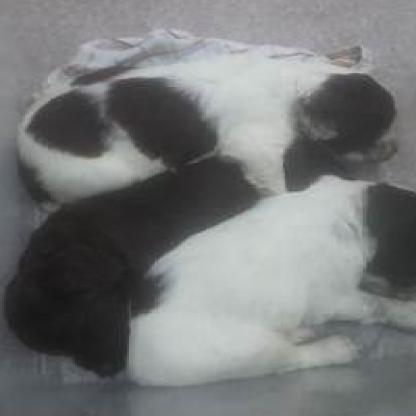dog: (127, 174, 415, 389), (19, 56, 399, 194)
